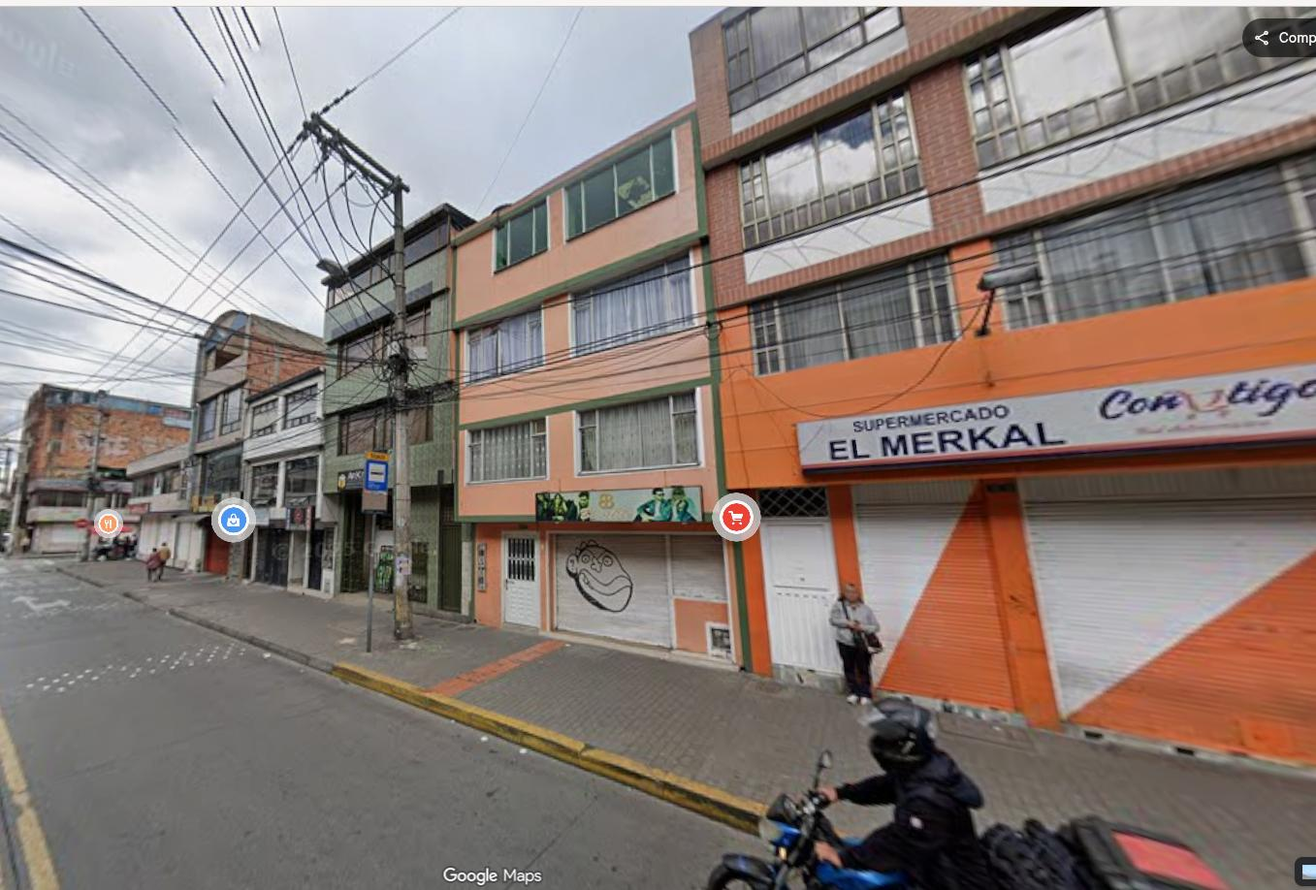casa: (692, 6, 1315, 763), (438, 106, 747, 662), (400, 204, 474, 610), (317, 223, 398, 590), (227, 368, 337, 597)
poste: (305, 112, 413, 640), (80, 391, 105, 561)
